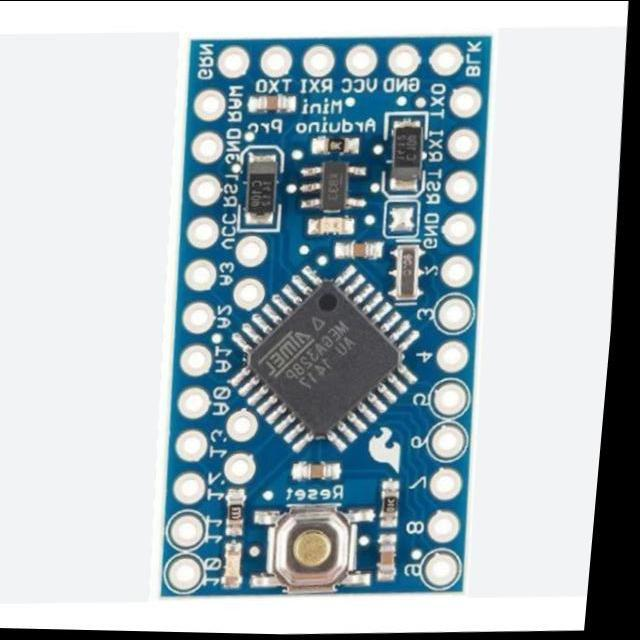Arduino-ProMini: (162, 37, 491, 596)
